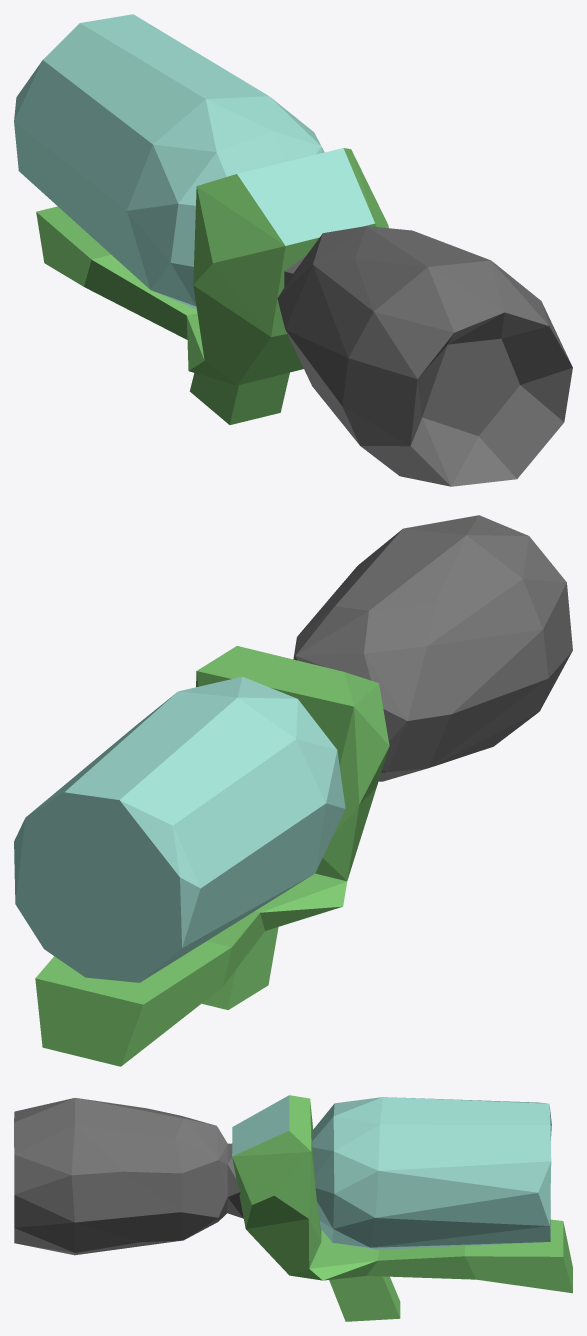
The model's file is Dmuchawa(1) 1.fbx.
3 renders of one model, top to bottom at view 1: azimuth 30°, elevation 25°; view 2: azimuth 150°, elevation 25°; view 3: azimuth 270°, elevation 25°, orthographic. The views are drawn at different scales.
Visible parts, largest first — view 1: Dmuchawa; view 2: Dmuchawa; view 3: Dmuchawa.
Boxes of the visible parts, box(x1,y1,x2,y2) form: Dmuchawa: box(14, 14, 572, 486); Dmuchawa: box(14, 515, 572, 1066); Dmuchawa: box(14, 1095, 572, 1321).
Bounding box in the file's own units: 318 × 455 × 1104.
